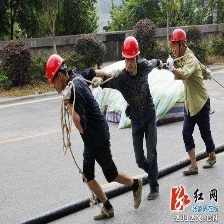helmet: (46, 54, 70, 89), (120, 35, 143, 61), (168, 28, 192, 49)
no-vest: (62, 78, 109, 140), (115, 68, 164, 120), (173, 55, 212, 119)
person: (45, 53, 115, 224), (168, 28, 216, 178), (117, 37, 161, 199)
